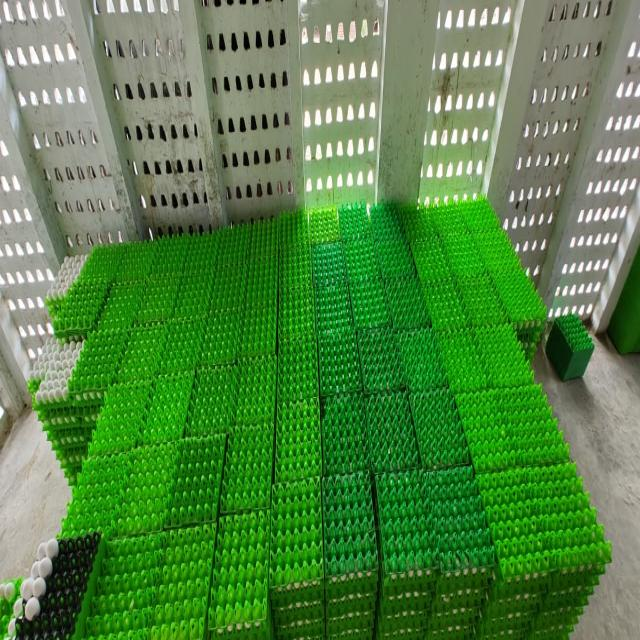egg_tray: (478, 464, 610, 633), (410, 200, 546, 357), (376, 467, 494, 633), (63, 435, 224, 536), (86, 525, 216, 637), (428, 466, 494, 632), (28, 336, 101, 482), (118, 438, 224, 533), (6, 533, 100, 637), (456, 386, 569, 472), (376, 471, 436, 631), (322, 473, 378, 635), (426, 465, 494, 593), (269, 478, 324, 632), (208, 510, 271, 639), (86, 534, 164, 636), (436, 324, 533, 391), (323, 472, 377, 589), (114, 443, 177, 536), (62, 454, 131, 536), (168, 438, 225, 526), (492, 269, 546, 361), (410, 387, 470, 468), (220, 423, 274, 512), (88, 380, 151, 455), (366, 391, 420, 472), (69, 330, 128, 404), (43, 407, 98, 481), (140, 369, 194, 444), (274, 398, 322, 482), (28, 338, 83, 411), (322, 393, 370, 474), (473, 324, 534, 387), (342, 228, 405, 288), (186, 365, 238, 435), (279, 235, 314, 339), (491, 268, 546, 329), (396, 327, 448, 390), (52, 282, 108, 339), (546, 315, 594, 378), (12, 555, 52, 630), (438, 330, 486, 391), (318, 329, 362, 395), (358, 328, 404, 391), (118, 322, 166, 382), (278, 333, 318, 402), (236, 355, 276, 423), (430, 197, 499, 235), (45, 256, 87, 316), (159, 318, 204, 372), (200, 310, 244, 365), (458, 274, 506, 324), (386, 274, 429, 329), (223, 219, 280, 260), (475, 229, 522, 278), (423, 277, 467, 329), (150, 234, 200, 279), (51, 427, 91, 483), (135, 275, 180, 324), (440, 233, 486, 280), (98, 283, 144, 329), (279, 280, 315, 338), (240, 300, 277, 356), (350, 277, 390, 328), (78, 244, 130, 283), (411, 235, 452, 284), (342, 234, 380, 284), (314, 282, 352, 332), (218, 223, 262, 265), (174, 274, 213, 320), (210, 262, 246, 311), (246, 254, 278, 309), (114, 243, 158, 282), (376, 238, 415, 280), (182, 233, 220, 275), (218, 224, 254, 267), (246, 217, 280, 262), (312, 243, 346, 287), (399, 205, 436, 244), (430, 202, 469, 238), (246, 219, 280, 260), (458, 198, 499, 232), (370, 203, 404, 244), (218, 224, 251, 266), (280, 246, 312, 289), (278, 210, 310, 252), (278, 211, 310, 253), (53, 444, 86, 484), (248, 220, 280, 260), (0, 580, 22, 635), (339, 202, 370, 240), (309, 207, 340, 244), (518, 328, 543, 363), (152, 245, 164, 264), (221, 242, 226, 250), (382, 254, 388, 258), (10, 622, 11, 631), (478, 598, 482, 600), (281, 236, 283, 240), (167, 244, 171, 245), (300, 278, 302, 280), (95, 413, 96, 417), (451, 602, 454, 603), (258, 187, 260, 188), (91, 409, 93, 410), (129, 260, 131, 260), (50, 592, 50, 597), (245, 154, 245, 155), (267, 152, 267, 154), (256, 152, 256, 153), (276, 222, 276, 223), (476, 594, 476, 595), (539, 299, 539, 301), (494, 216, 494, 217), (409, 255, 409, 256), (281, 218, 281, 219)
